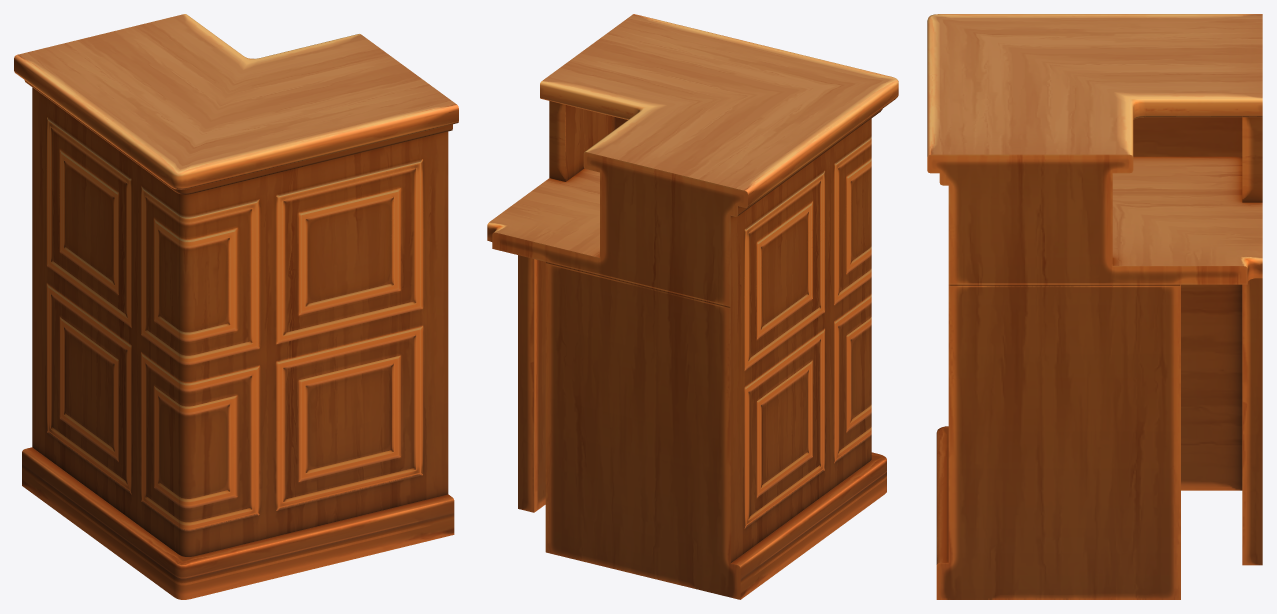
The model's file is OfficeReception01_2.FBX.
3 views of the same model, side by side, from view 1: azimuth 30°, elevation 25°; view 2: azimuth 150°, elevation 25°; view 3: azimuth 270°, elevation 25° (orthographic). The views are drawn at different scales.
Parts seen in each view (by area): view 1: OfficeReception01_2; view 2: OfficeReception01_2; view 3: OfficeReception01_2.
Boxes of the visible parts, <box> form: OfficeReception01_2: <box>14,14,458,599</box>; OfficeReception01_2: <box>487,14,898,599</box>; OfficeReception01_2: <box>927,14,1262,599</box>.
Size of what is drawn, in the model's own units: 0.8198 by 1.2 by 0.8198.
